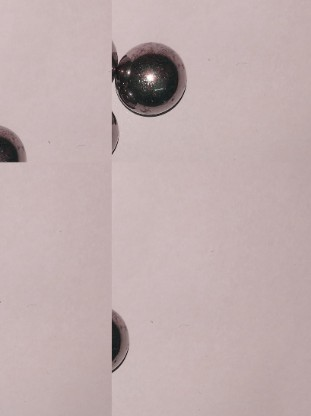ironball: (112, 34, 191, 120)
